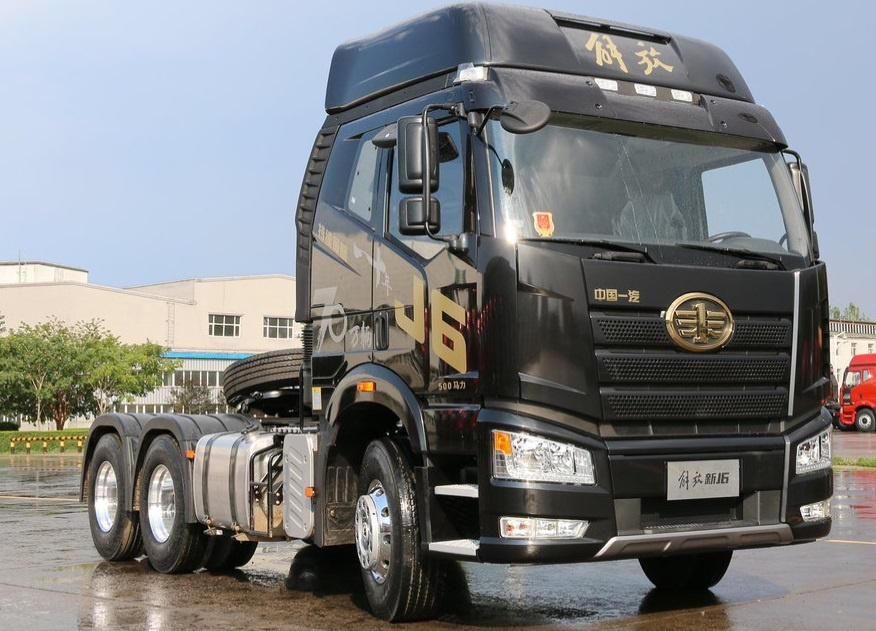heavy truck: (79, 29, 838, 618)
